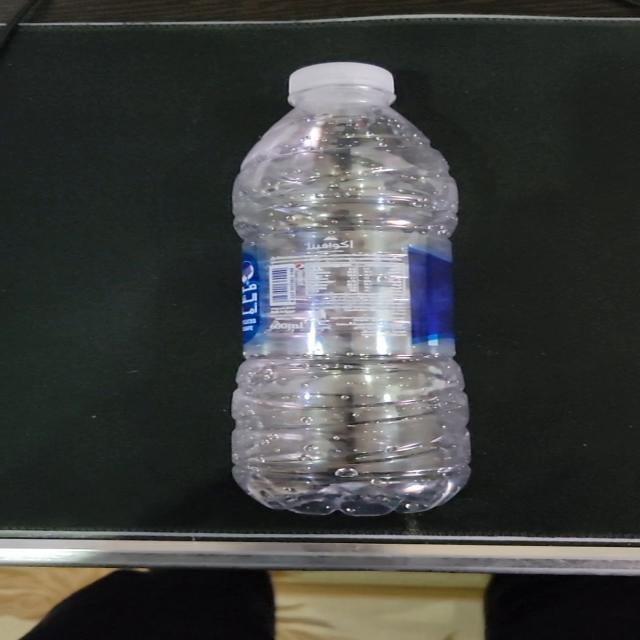Anorganik: (218, 59, 478, 518)
